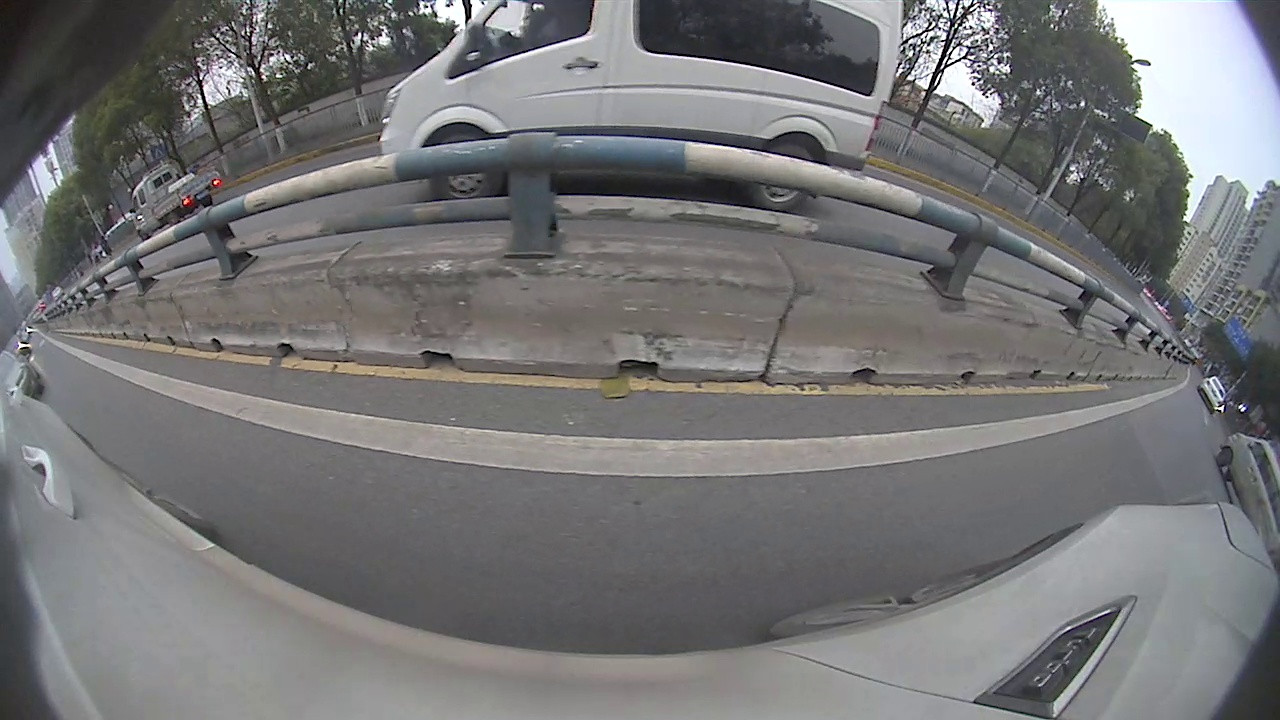car: (378, 1, 908, 217)
front: (430, 133, 504, 203), (1213, 447, 1237, 467)
rear: (753, 143, 812, 213)
